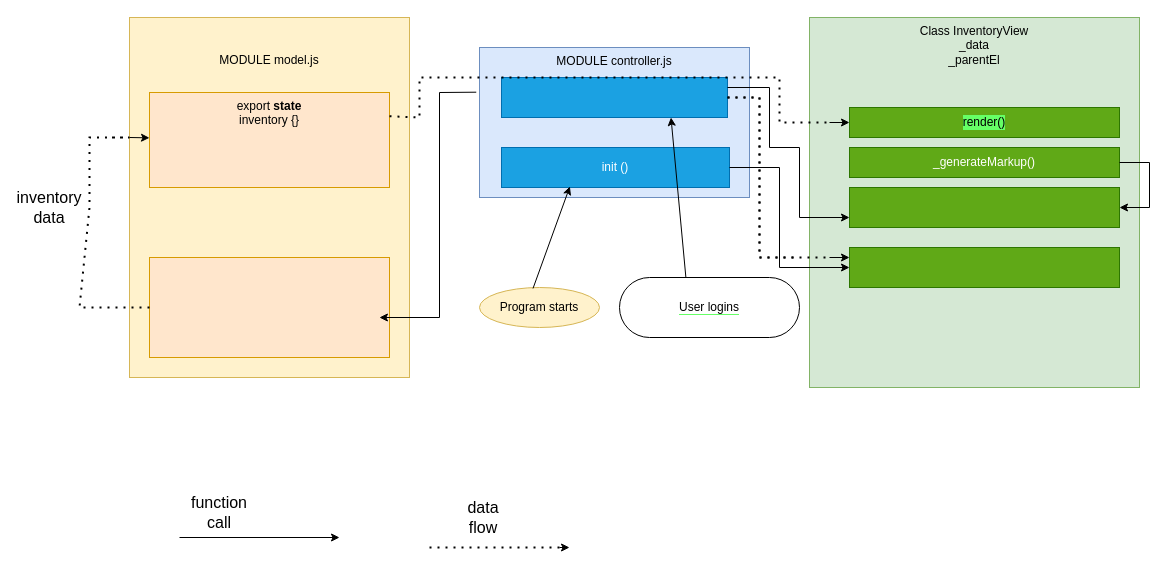
Some shapes in this 1175 by 573 pixel diagram are drawn without their labels. The centre of each missing label's shape, as x and y in pixels:
addHandlerRender(): (984,267)
controlInventory(): (614,97)
export loadInventory(): (269,307)
renderSpinner(): (984,207)
